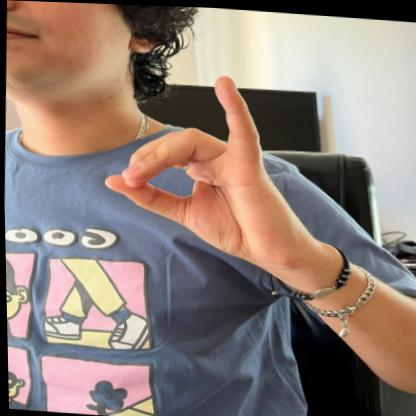D: (90, 58, 310, 263)
